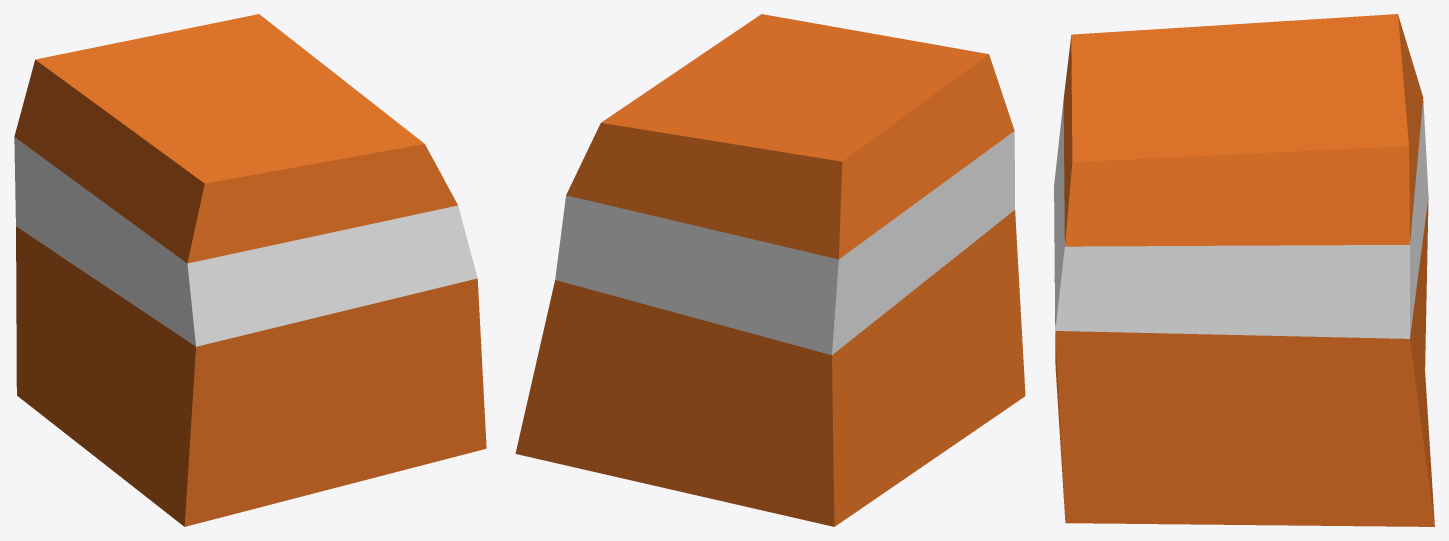
The model's file is DesertRock04.glb.
3 renders of one model, left to right at view 1: azimuth 30°, elevation 25°; view 2: azimuth 150°, elevation 25°; view 3: azimuth 270°, elevation 25°, orthographic. The views are drawn at different scales.
Visible parts, largest first — view 1: DesertRock04; view 2: DesertRock04; view 3: DesertRock04.
Part boxes in pixels (left/top/right/bottom): DesertRock04: left=14, top=14, right=486, bottom=526; DesertRock04: left=515, top=14, right=1025, bottom=526; DesertRock04: left=1054, top=14, right=1434, bottom=526.
Size of the model in its own units: 2 by 2.09 by 2.01.
1 material, 1 textured.
